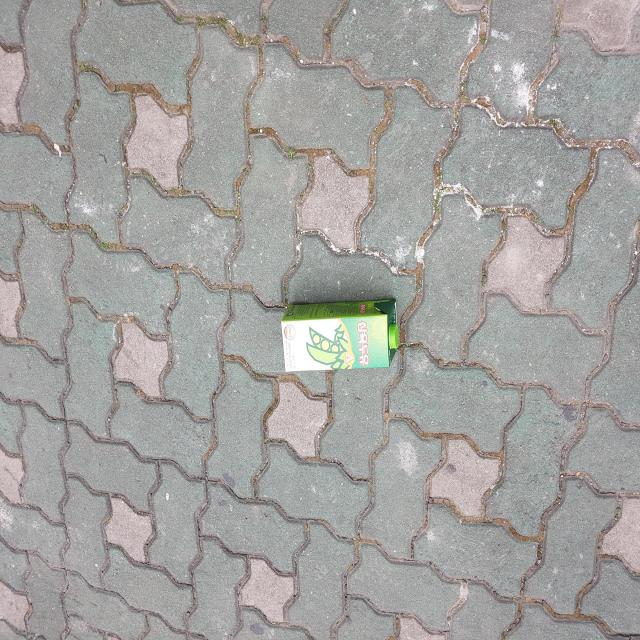paperpack: (281, 299, 399, 372)
